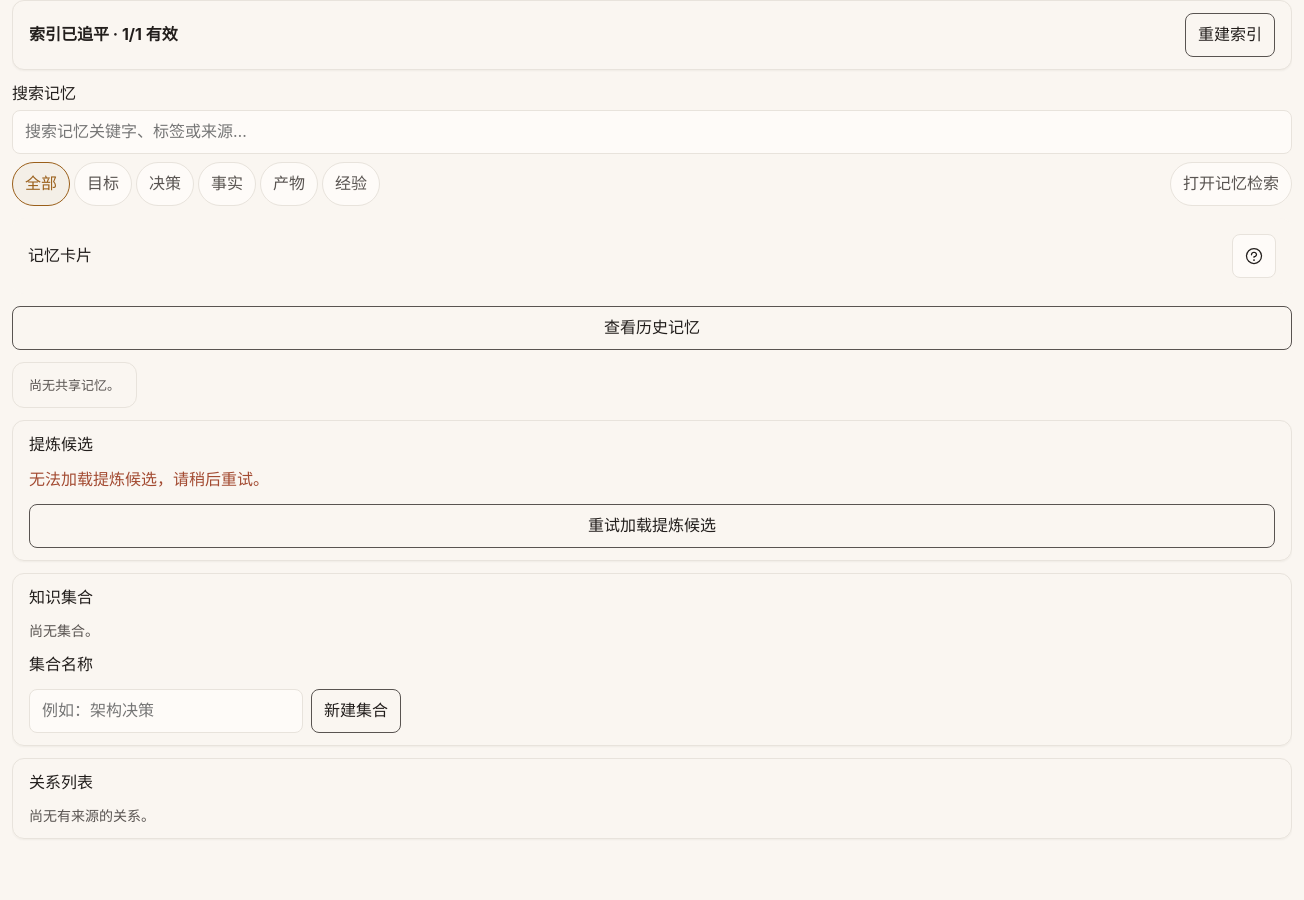
Scenario: Shared Memory panel › shows a sanitized candidate load error and retries
Expected: the message reads "无法加载提炼候选，请稍后重试。", [29,469,269,489]
Expected: the message does not show "raw path", [29,469,269,489]
Click the button "重试加载提炼候选". click: (652, 526)
box: [29,504,1275,548]
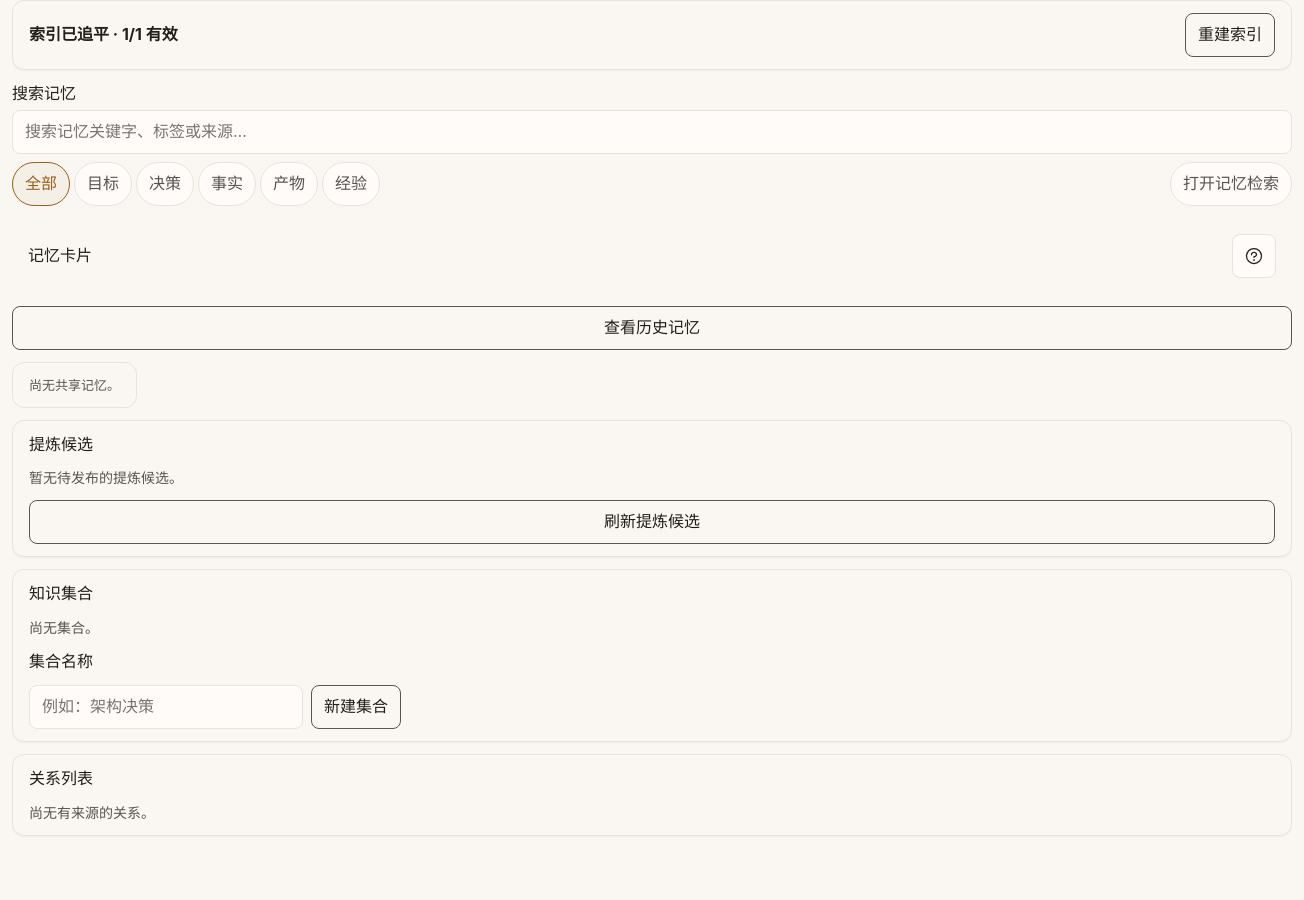
Now the text "暂无待发布的提炼候选。" is shown, box [29,469,183,486]
